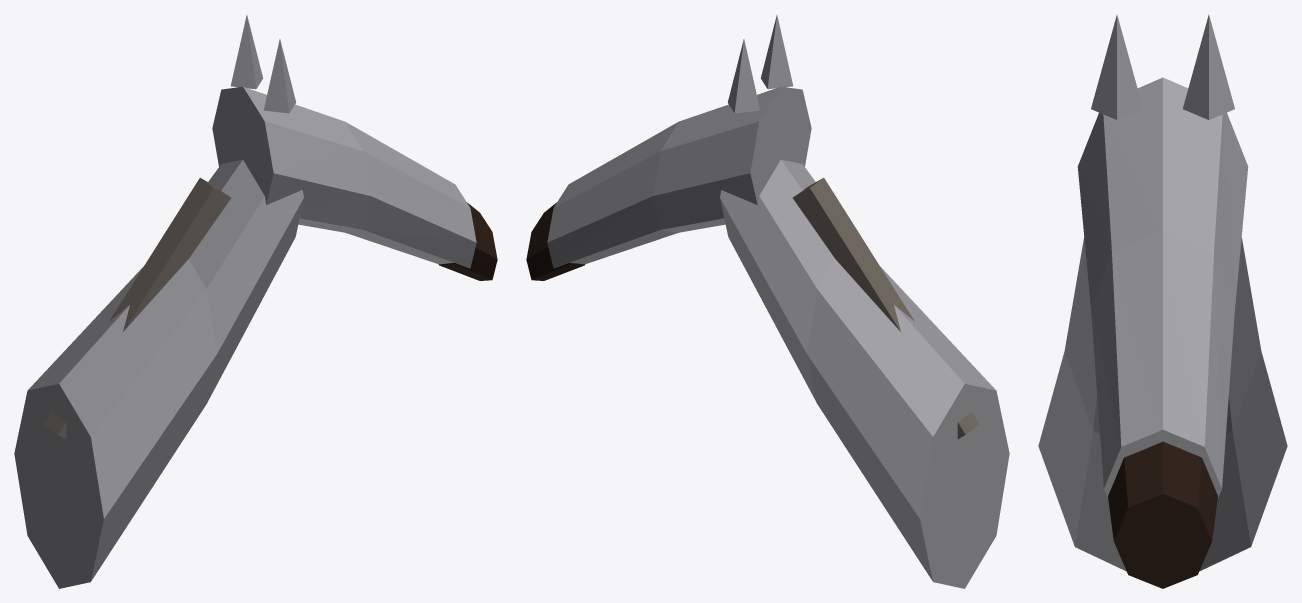
Rendered from carreta_head_tordillo.obj.
3 views of the same model, side by side, from view 1: azimuth 30°, elevation 25°; view 2: azimuth 150°, elevation 25°; view 3: azimuth 270°, elevation 25° (orthographic). The views are drawn at different scales.
Parts seen in each view (by area): view 1: carreta_head_tordillo; view 2: carreta_head_tordillo; view 3: carreta_head_tordillo.
Part boxes in pixels (<box>): carreta_head_tordillo: <box>14,14,497,588</box>; carreta_head_tordillo: <box>526,14,1009,588</box>; carreta_head_tordillo: <box>1038,14,1287,588</box>.
Bounding box in the file's own units: 1.05 × 1.2 × 0.38.
